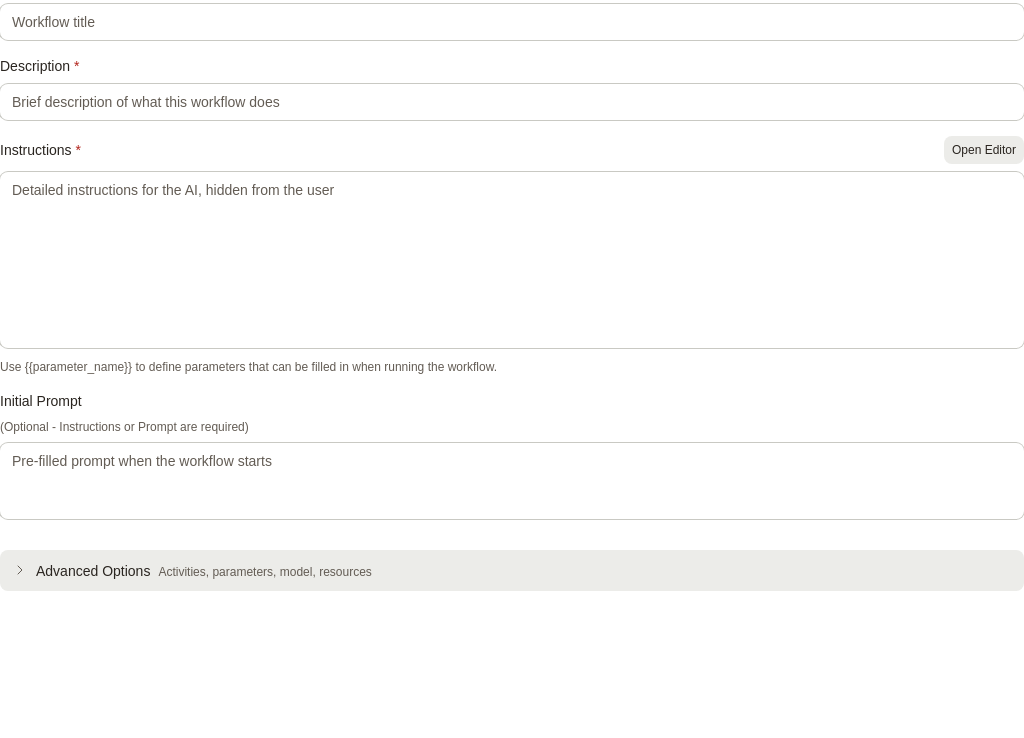
WorkflowFormFields › Parameter Auto-Detection › shows delete button for parameters
Click the button "Advanced Options Activities, parameters, model, resources" at (93, 571), box [0, 550, 1023, 591]
(page scrolled)
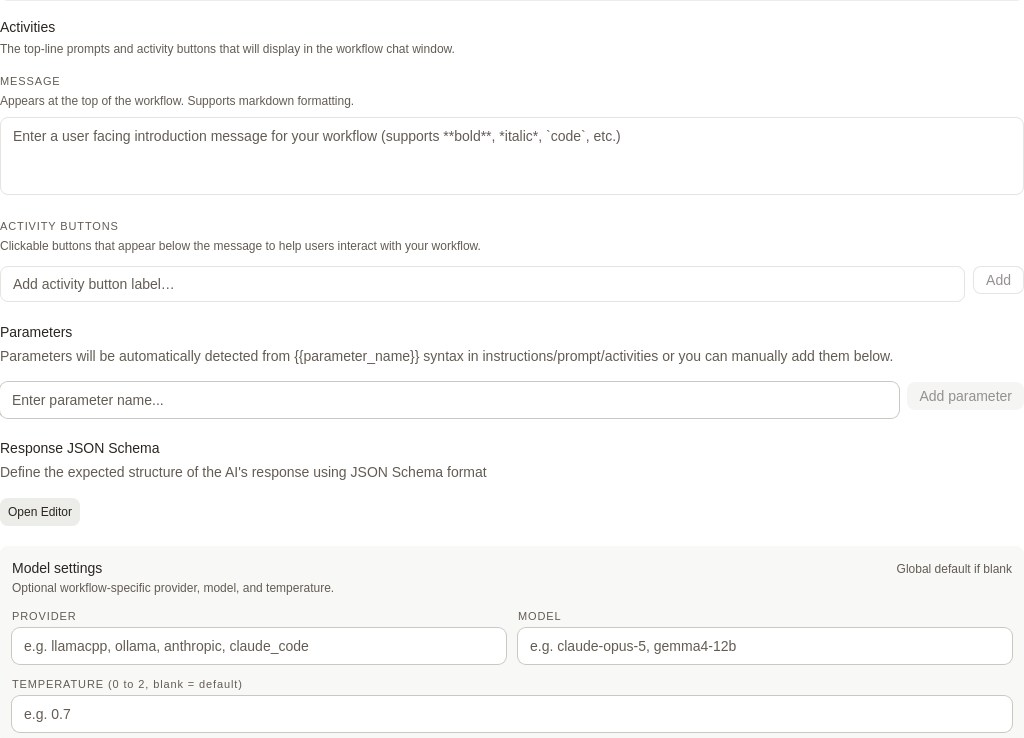
Type "deletable_param" into the field with placeholder "Enter parameter name..." at (450, 400), box [0, 382, 899, 418]
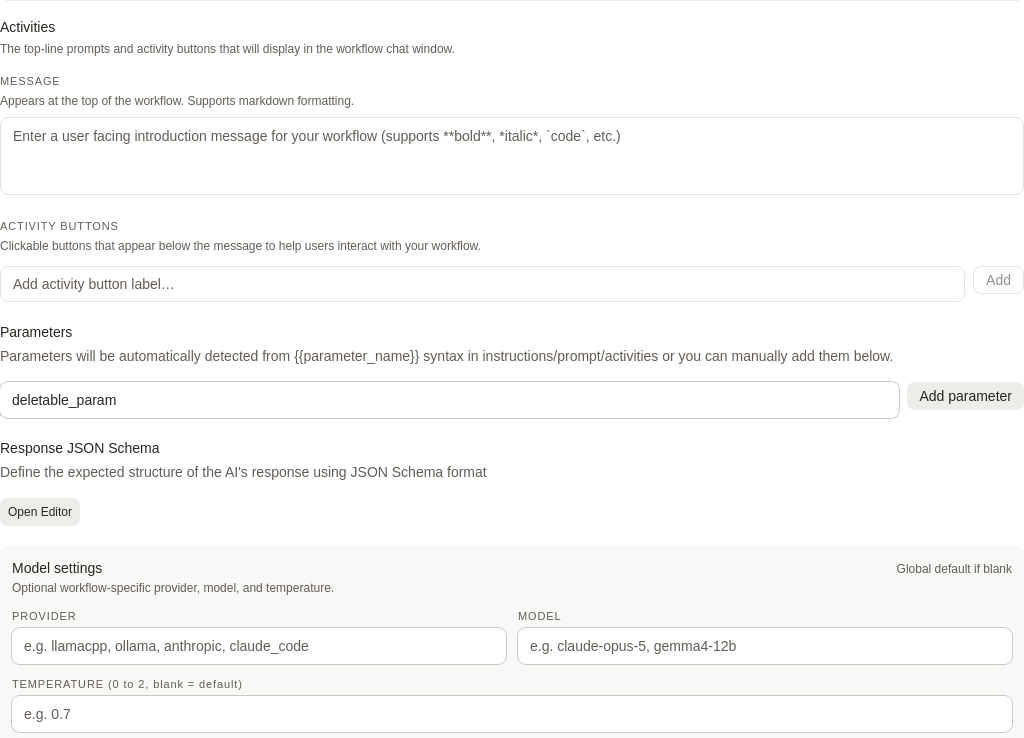
Click the button "Add parameter" at (966, 396), box [907, 382, 1023, 410]
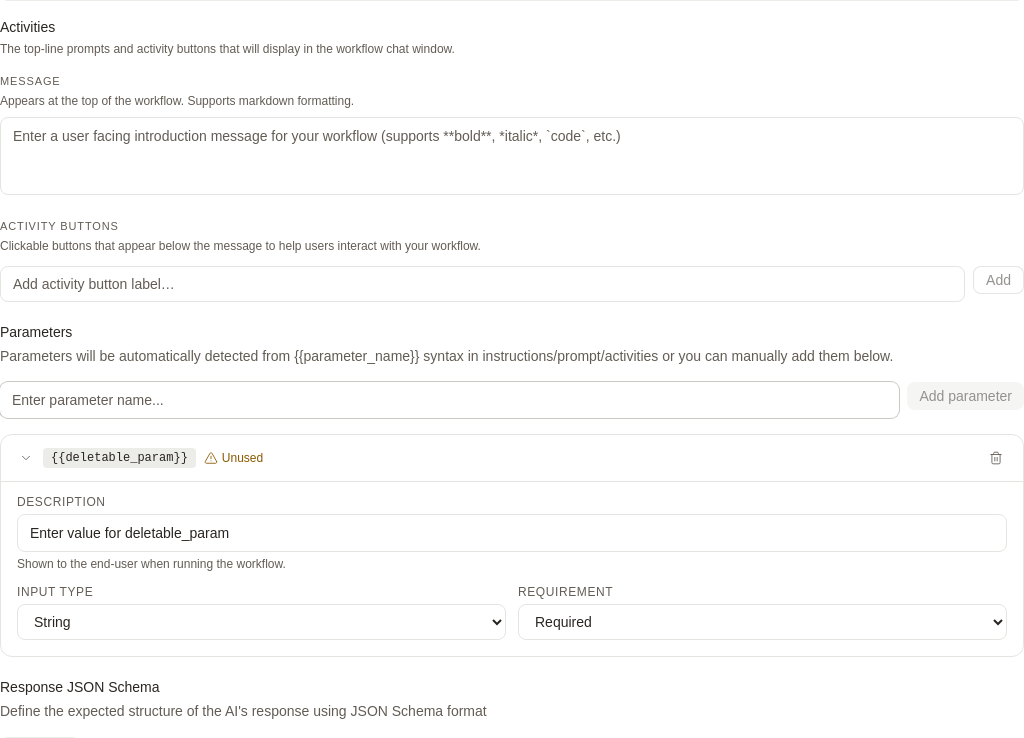
Now the element that starts with "deletable_param" is shown, box [0, 434, 1023, 657]
Now the button named "Delete parameter deletable_param" is shown
Click the button named "Delete parameter deletable_param" at (996, 458), box [985, 447, 1007, 469]
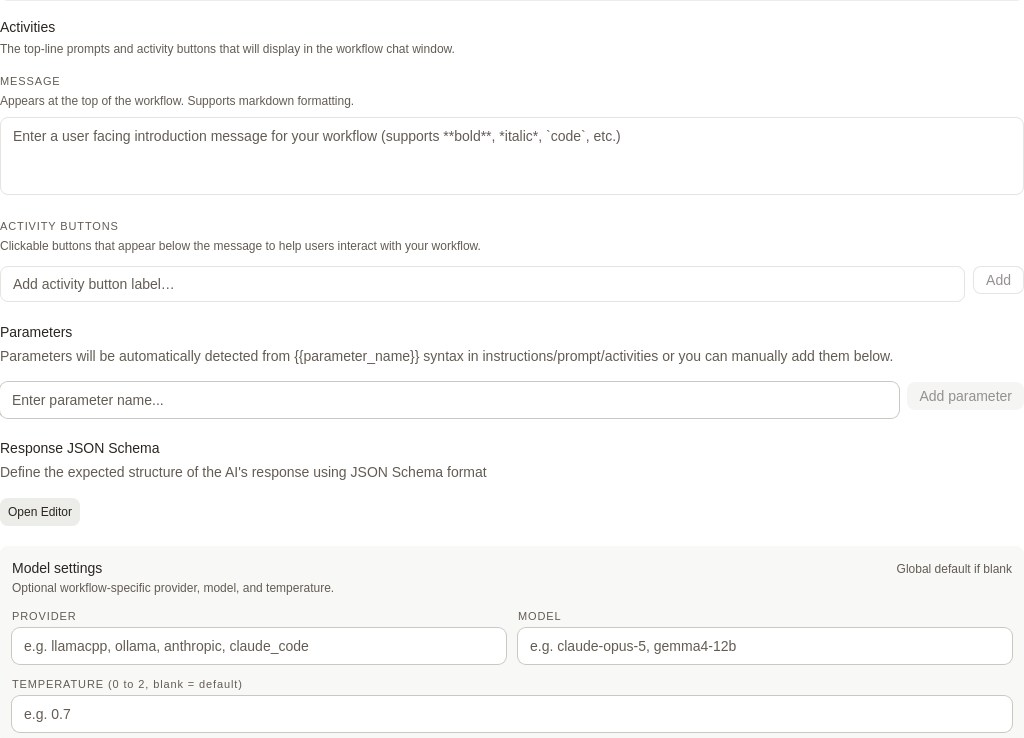
Now the text "deletable_param" is gone
